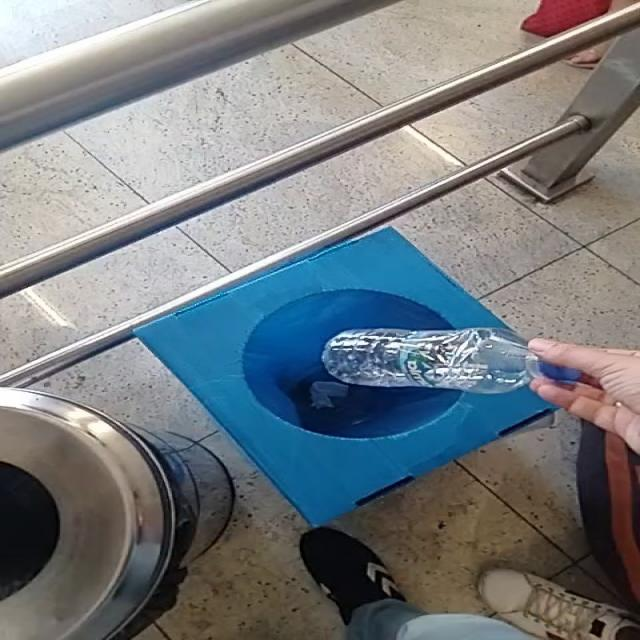plastic: (321, 329, 583, 394), (321, 329, 581, 394)
